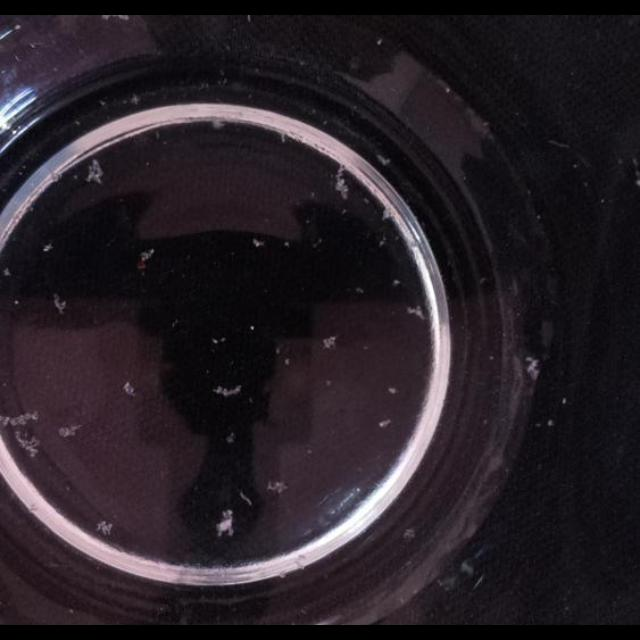Fibre: (209, 502, 239, 542), (12, 422, 42, 456), (84, 158, 104, 186), (334, 168, 350, 202), (206, 384, 240, 400), (99, 512, 118, 536), (58, 423, 82, 439), (137, 248, 155, 266), (406, 304, 424, 322), (380, 204, 396, 222), (54, 294, 68, 314), (210, 118, 226, 130), (376, 154, 390, 166), (42, 244, 54, 252)
microbeads: (524, 357, 540, 381), (267, 480, 289, 494), (123, 380, 137, 396), (322, 336, 338, 350), (252, 238, 266, 248), (378, 418, 390, 428), (225, 432, 235, 443), (130, 94, 140, 105), (379, 236, 387, 248), (388, 387, 398, 395), (392, 279, 401, 287), (356, 286, 364, 294), (212, 336, 220, 344), (546, 419, 554, 427), (2, 268, 10, 276), (376, 38, 384, 46), (326, 379, 332, 387), (284, 357, 290, 365), (282, 242, 290, 248), (561, 398, 567, 404), (249, 324, 255, 330), (13, 299, 19, 305)
